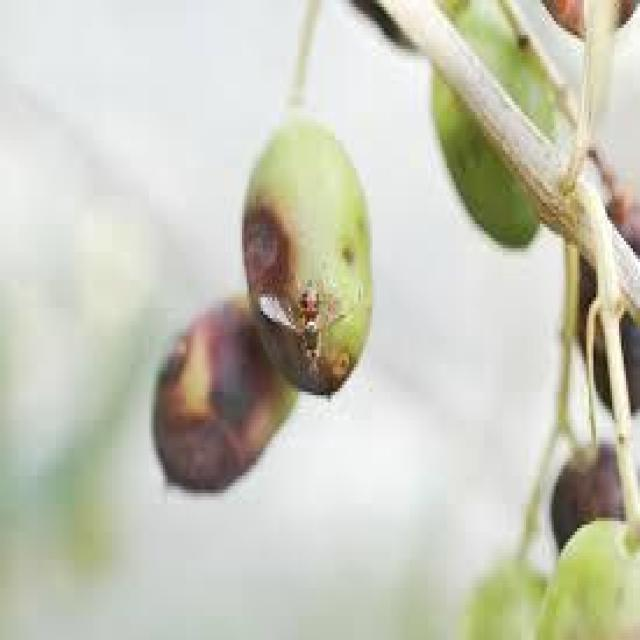Anthracnose: (242, 115, 370, 388), (154, 300, 252, 490)
